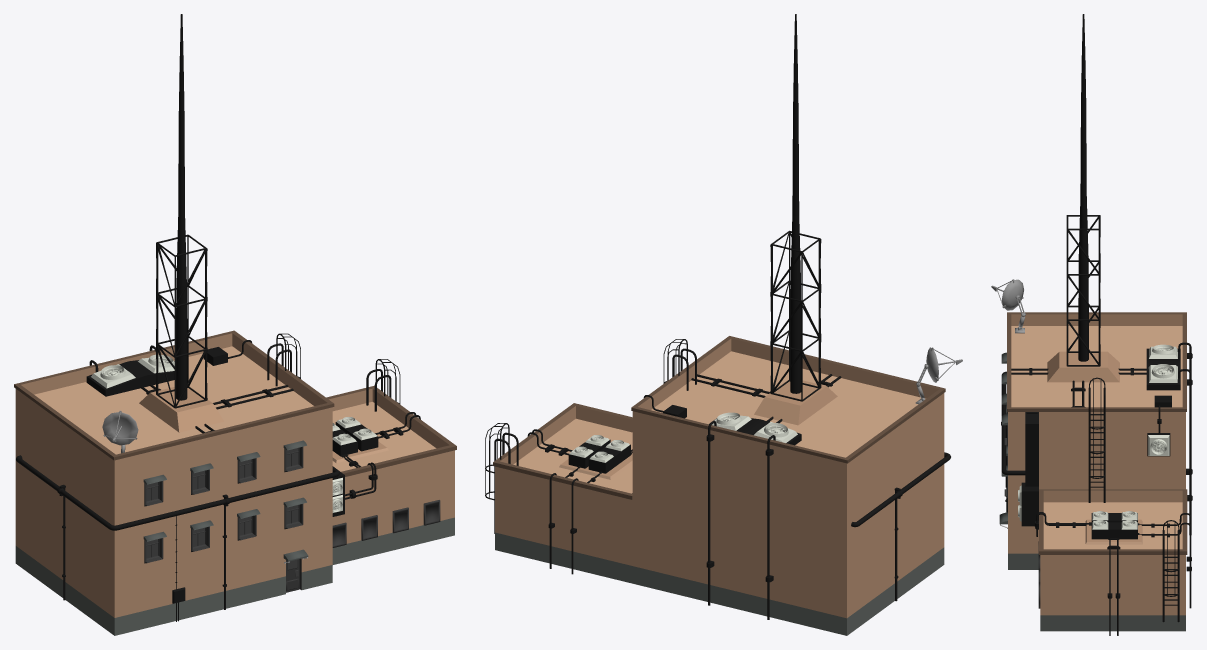
Rendered from Futuristic ghetto building_one_Mesh.dae.
The picture shows the model from 3 angles, left to right: view 1: azimuth 30°, elevation 25°; view 2: azimuth 150°, elevation 25°; view 3: azimuth 270°, elevation 25°; orthographic projection. The views are drawn at different scales.
Visible parts, largest first — view 1: Plane; view 2: Plane; view 3: Plane.
Part boxes in pixels (box(x1,y1,x2,y2)): Plane: box(14, 14, 456, 635); Plane: box(485, 14, 962, 635); Plane: box(991, 14, 1192, 635).
Size of the model in its own units: 24.78 by 12.44 by 34.8.
